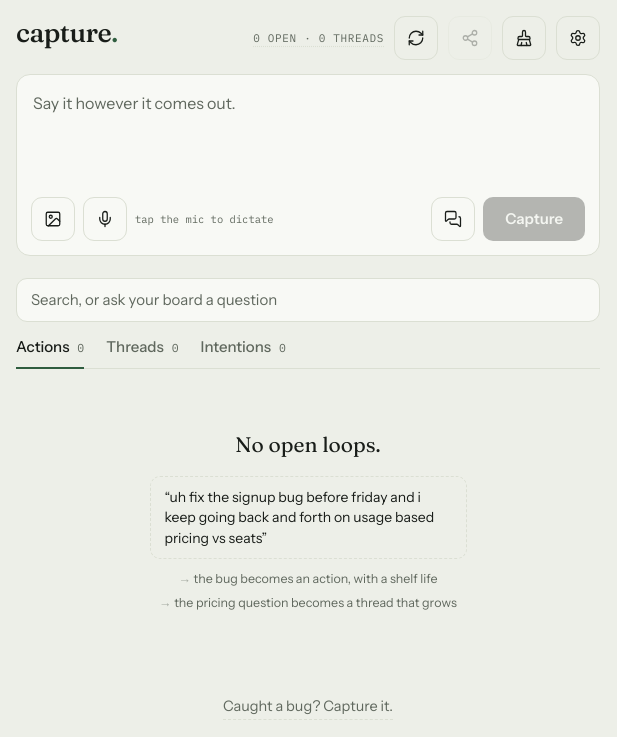
keeps durable in-flight captures out of Unsorted and shows manual recovery only after sorting fails
Expected: the text "No open loops." is shown, [235, 430, 381, 456]
Type "hello" into the text box with placeholder "Say it however it comes out.". click: (308, 135)
box: [31, 89, 585, 181]
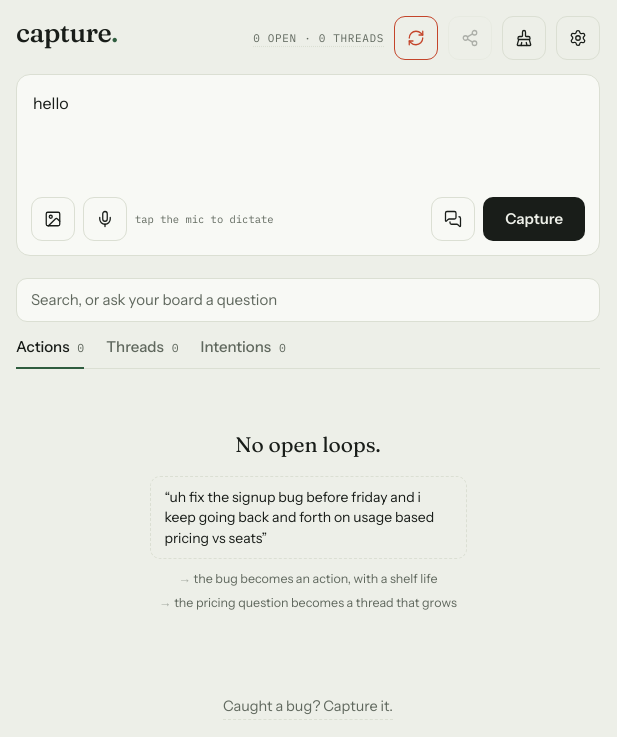
Click the button "Capture". click: click(534, 219)
box: [483, 197, 585, 241]
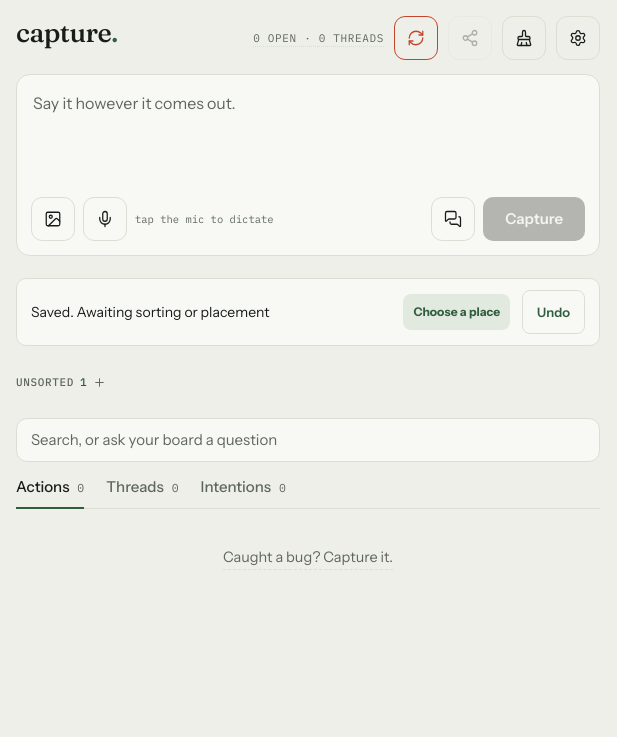
Now the text "Saved. Sorting…" is shown, box [31, 302, 270, 320]
Now the button "Unsorted 1" is shown, box [16, 360, 106, 404]
